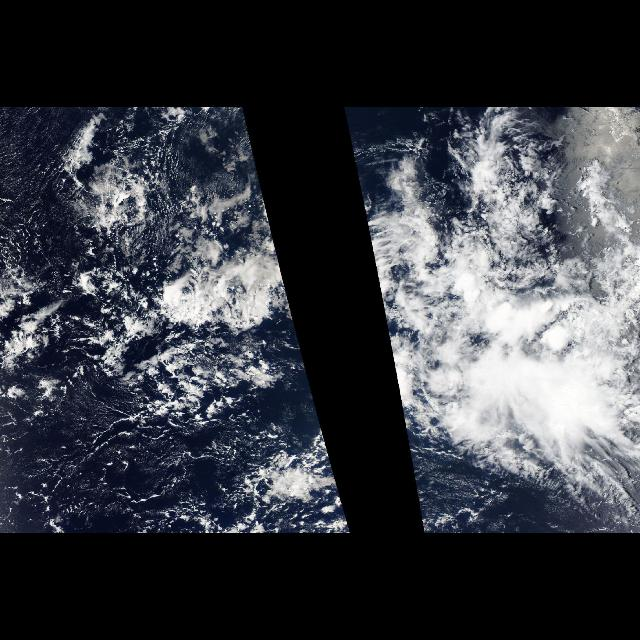Gravel: (1, 311, 248, 534)
